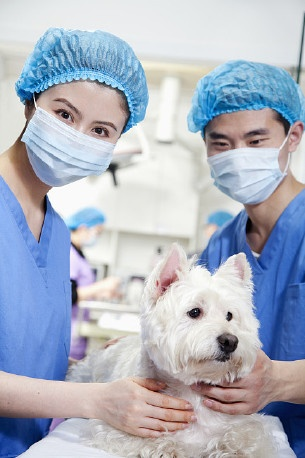Mask: (203, 121, 289, 207)
